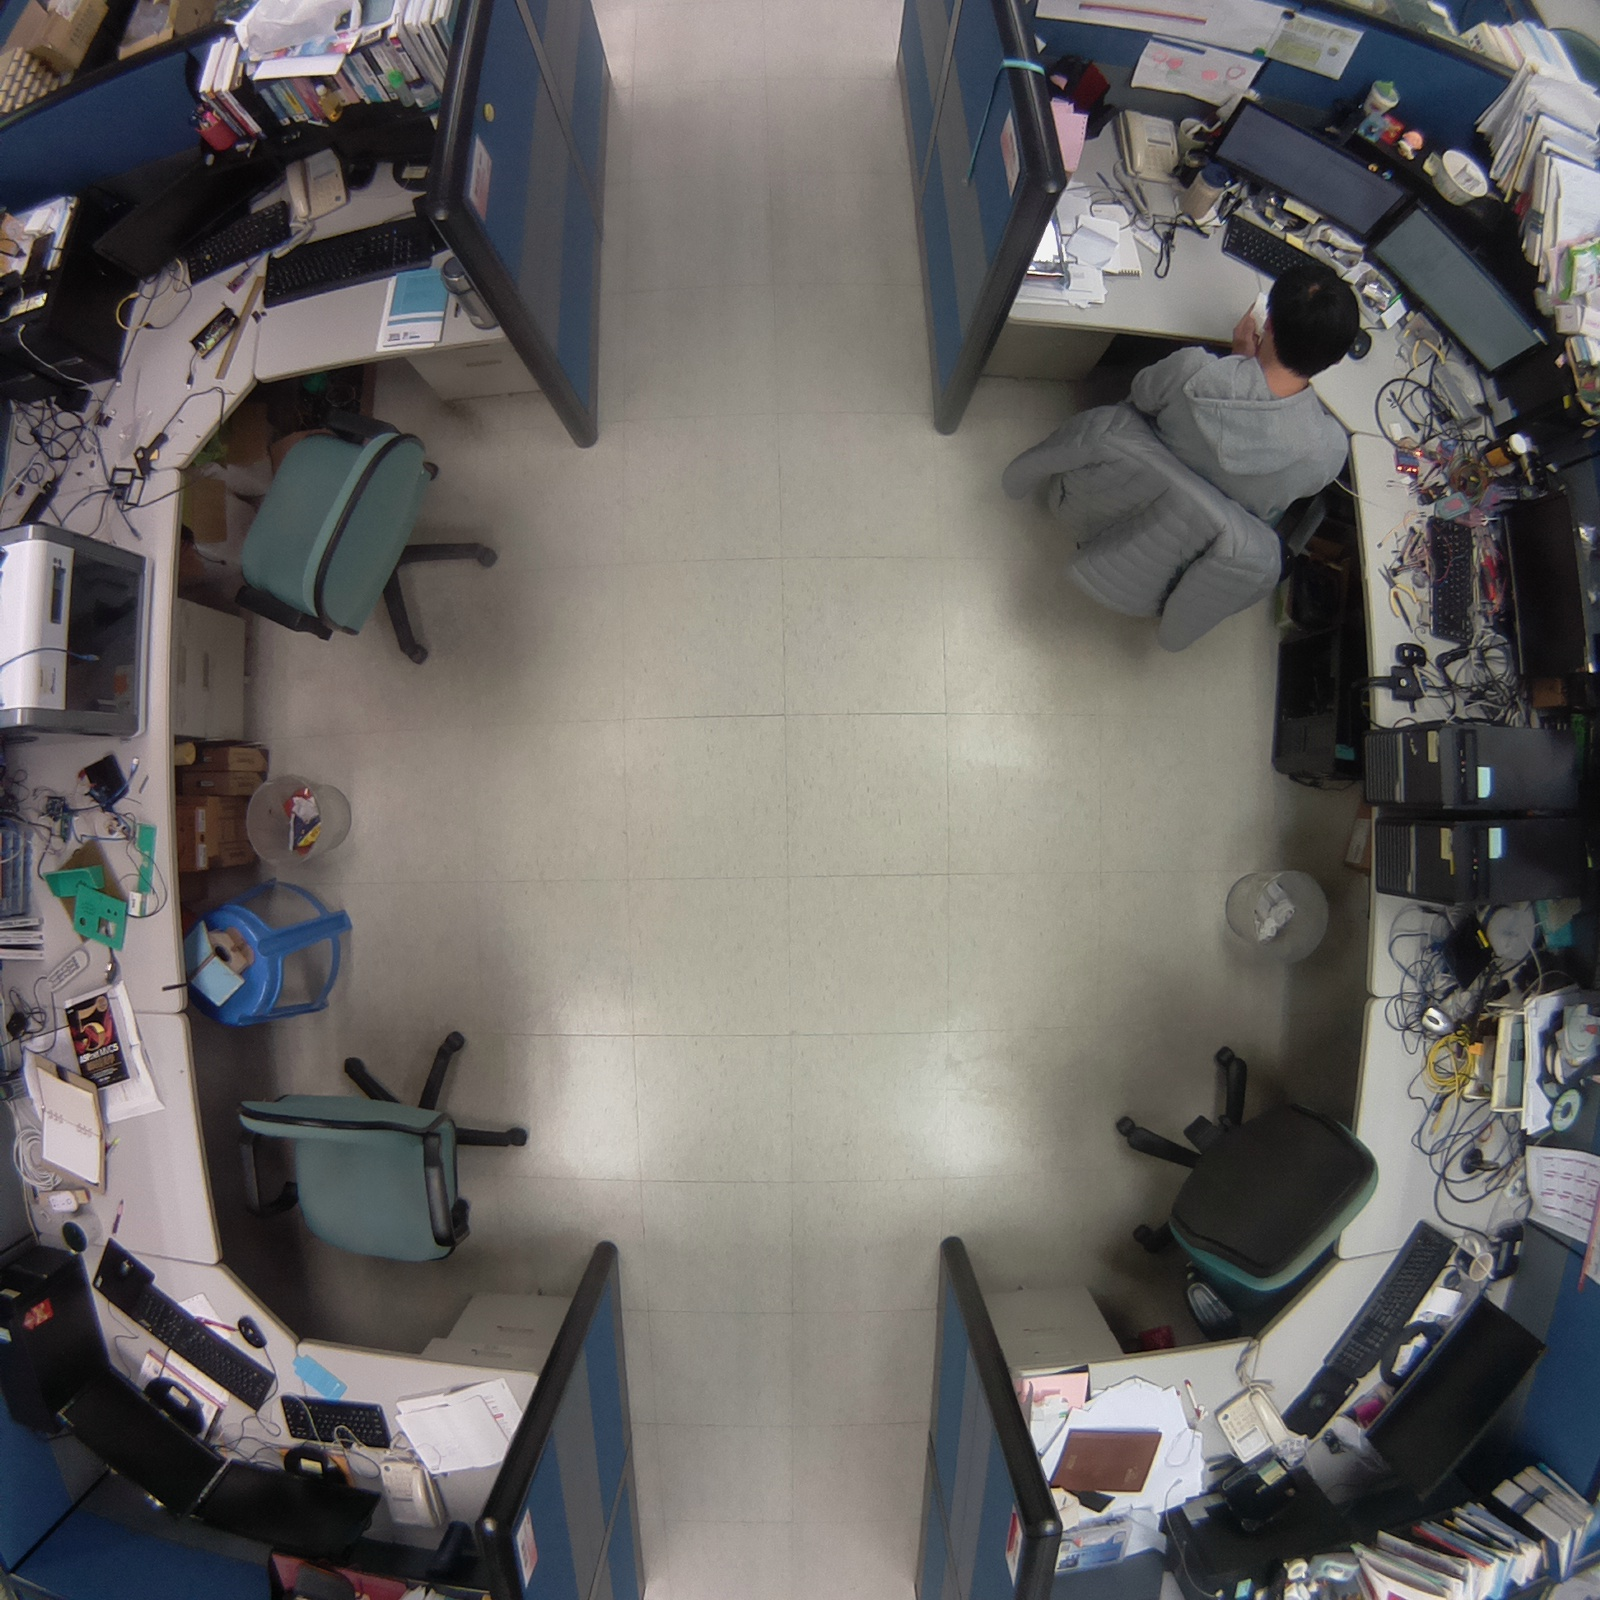chair: (214, 988, 570, 1291), (1096, 1022, 1386, 1352), (204, 396, 517, 688)
head: (1255, 248, 1368, 387)
sitting: (986, 245, 1378, 668)
